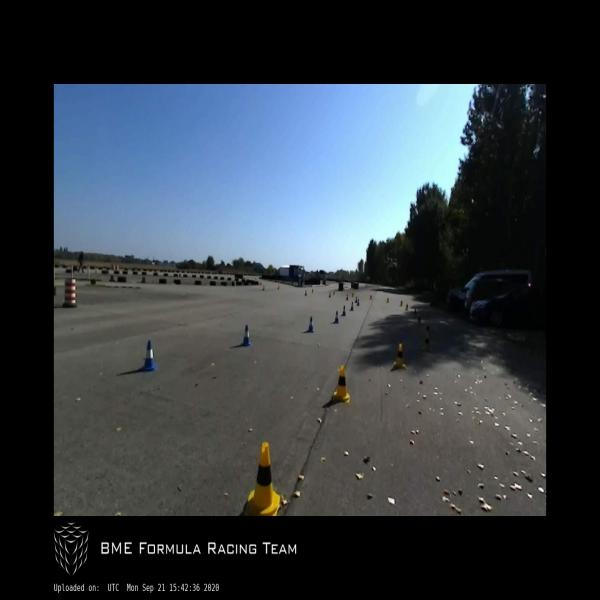blue_cone: (140, 341, 157, 372), (242, 325, 251, 346), (306, 317, 315, 332), (334, 311, 339, 323), (342, 306, 346, 316), (350, 302, 354, 311), (357, 299, 360, 306)
yellow_cone: (245, 442, 280, 516), (333, 365, 350, 403), (394, 343, 406, 370), (423, 333, 431, 352), (426, 324, 430, 334), (417, 316, 421, 324), (400, 300, 403, 307), (405, 304, 408, 310), (414, 309, 416, 317)
